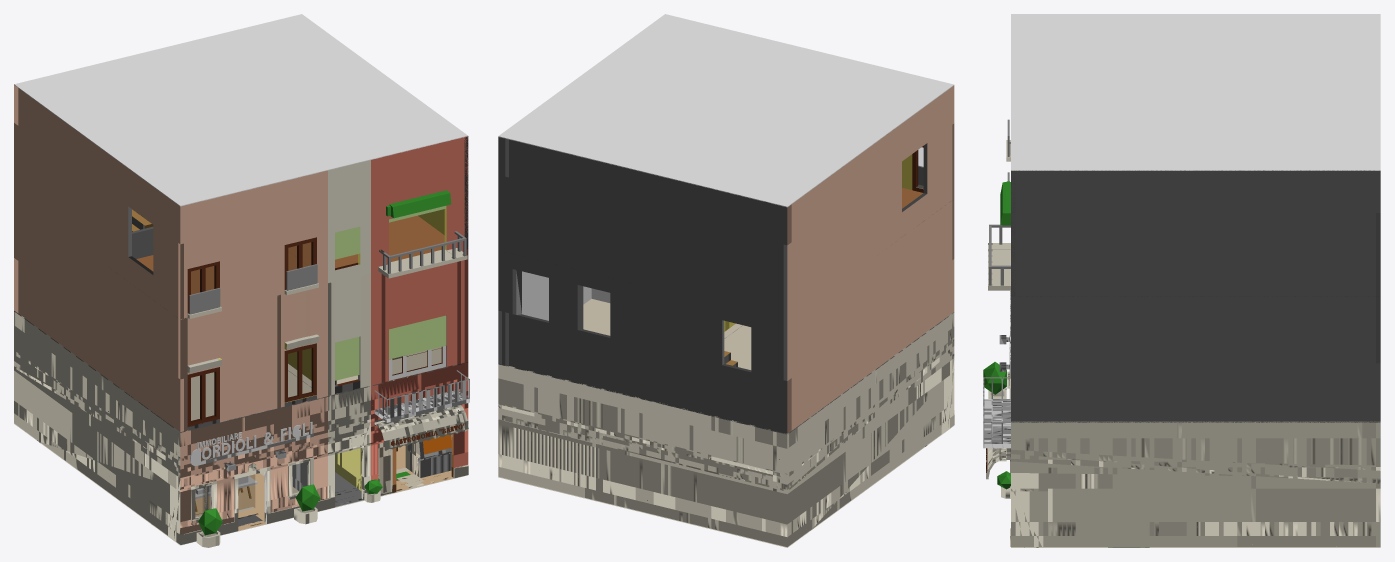
File: Baeto (no mobilio).fbx
The picture shows the model from 3 angles, left to right: view 1: azimuth 30°, elevation 25°; view 2: azimuth 150°, elevation 25°; view 3: azimuth 270°, elevation 25°; orthographic projection. The views are drawn at different scales.
Parts seen in each view (by area): view 1: Soffitto, Paimento, 3_piano, soffitto4, Paimento_1; view 2: Soffitto, Paimento, soffitto4, 3_piano; view 3: Soffitto, soffitto4, Paimento, 3_piano, Platonico_1.
Boxes of the visible parts, x1,y1,x2,y2 form: Soffitto: (14,85,468,432); Paimento: (14,311,469,545); 3_piano: (132,137,468,427); soffitto4: (14,14,467,206); Paimento_1: (196,507,317,547); Soffitto: (498,85,954,434); Paimento: (498,298,954,547); soffitto4: (498,14,953,207); 3_piano: (902,146,923,208); Soffitto: (1011,170,1380,422); soffitto4: (1011,14,1380,170); Paimento: (983,335,1380,547); 3_piano: (988,119,1010,290); Platonico_1: (983,362,1006,394).
Size of the model in its own units: 800 by 903 by 860.
